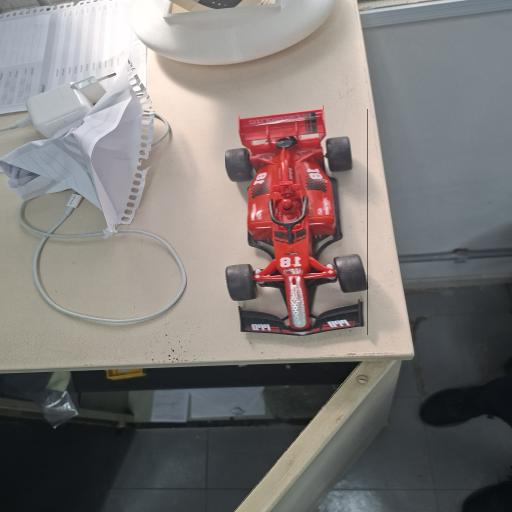carro: (225, 110, 367, 334)
